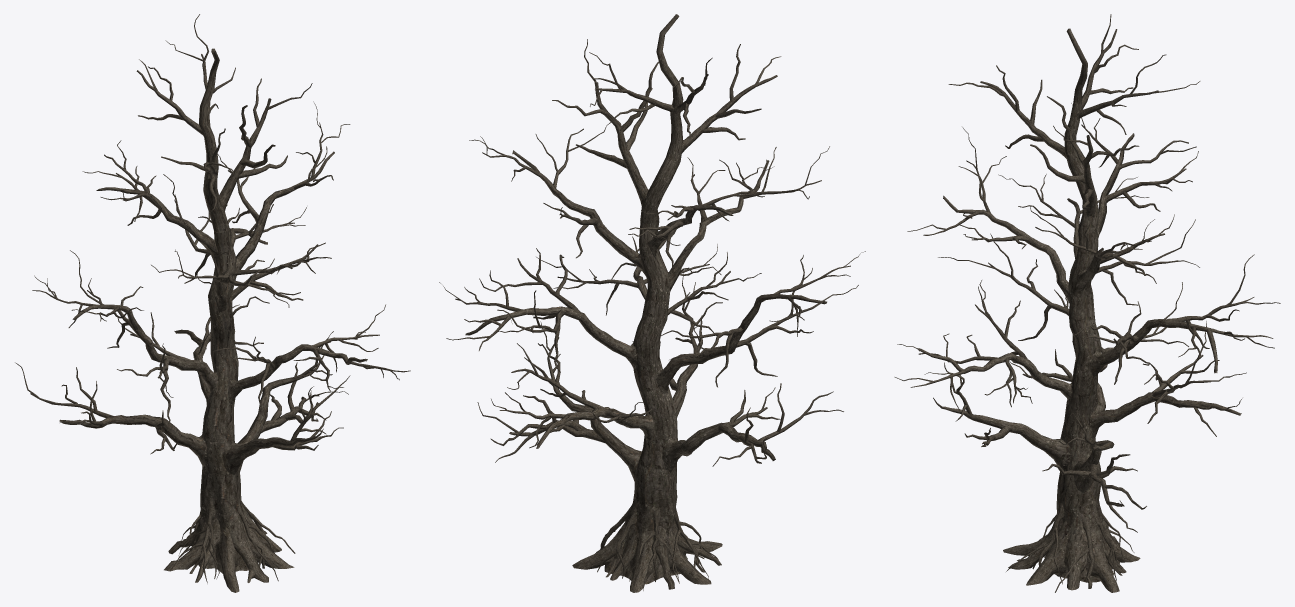
The model's file is SM_DeadTree_01a.fbx.
3 views of the same model, side by side, from view 1: azimuth 30°, elevation 25°; view 2: azimuth 150°, elevation 25°; view 3: azimuth 270°, elevation 25° (orthographic). The views are drawn at different scales.
Parts seen in each view (by area): view 1: SM_DeadTree_01a; view 2: SM_DeadTree_01a; view 3: SM_DeadTree_01a.
Boxes of the visible parts, bbox=[...] form: SM_DeadTree_01a: bbox=[15, 14, 410, 592]; SM_DeadTree_01a: bbox=[439, 14, 865, 592]; SM_DeadTree_01a: bbox=[894, 14, 1280, 592].
Bounding box in the file's own units: 1110 × 1711 × 1134.
